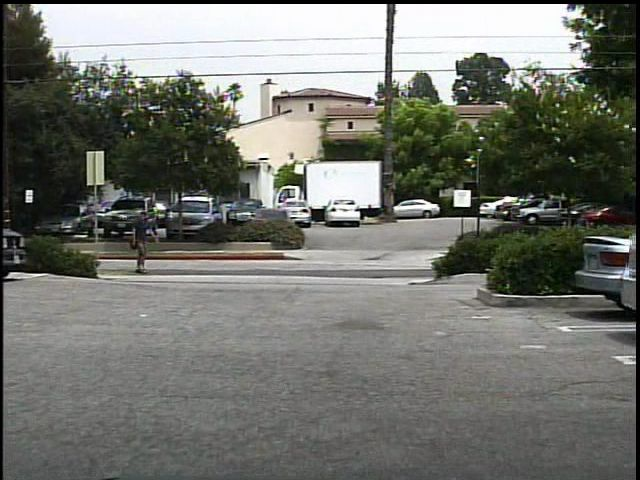person: (127, 209, 160, 277)
